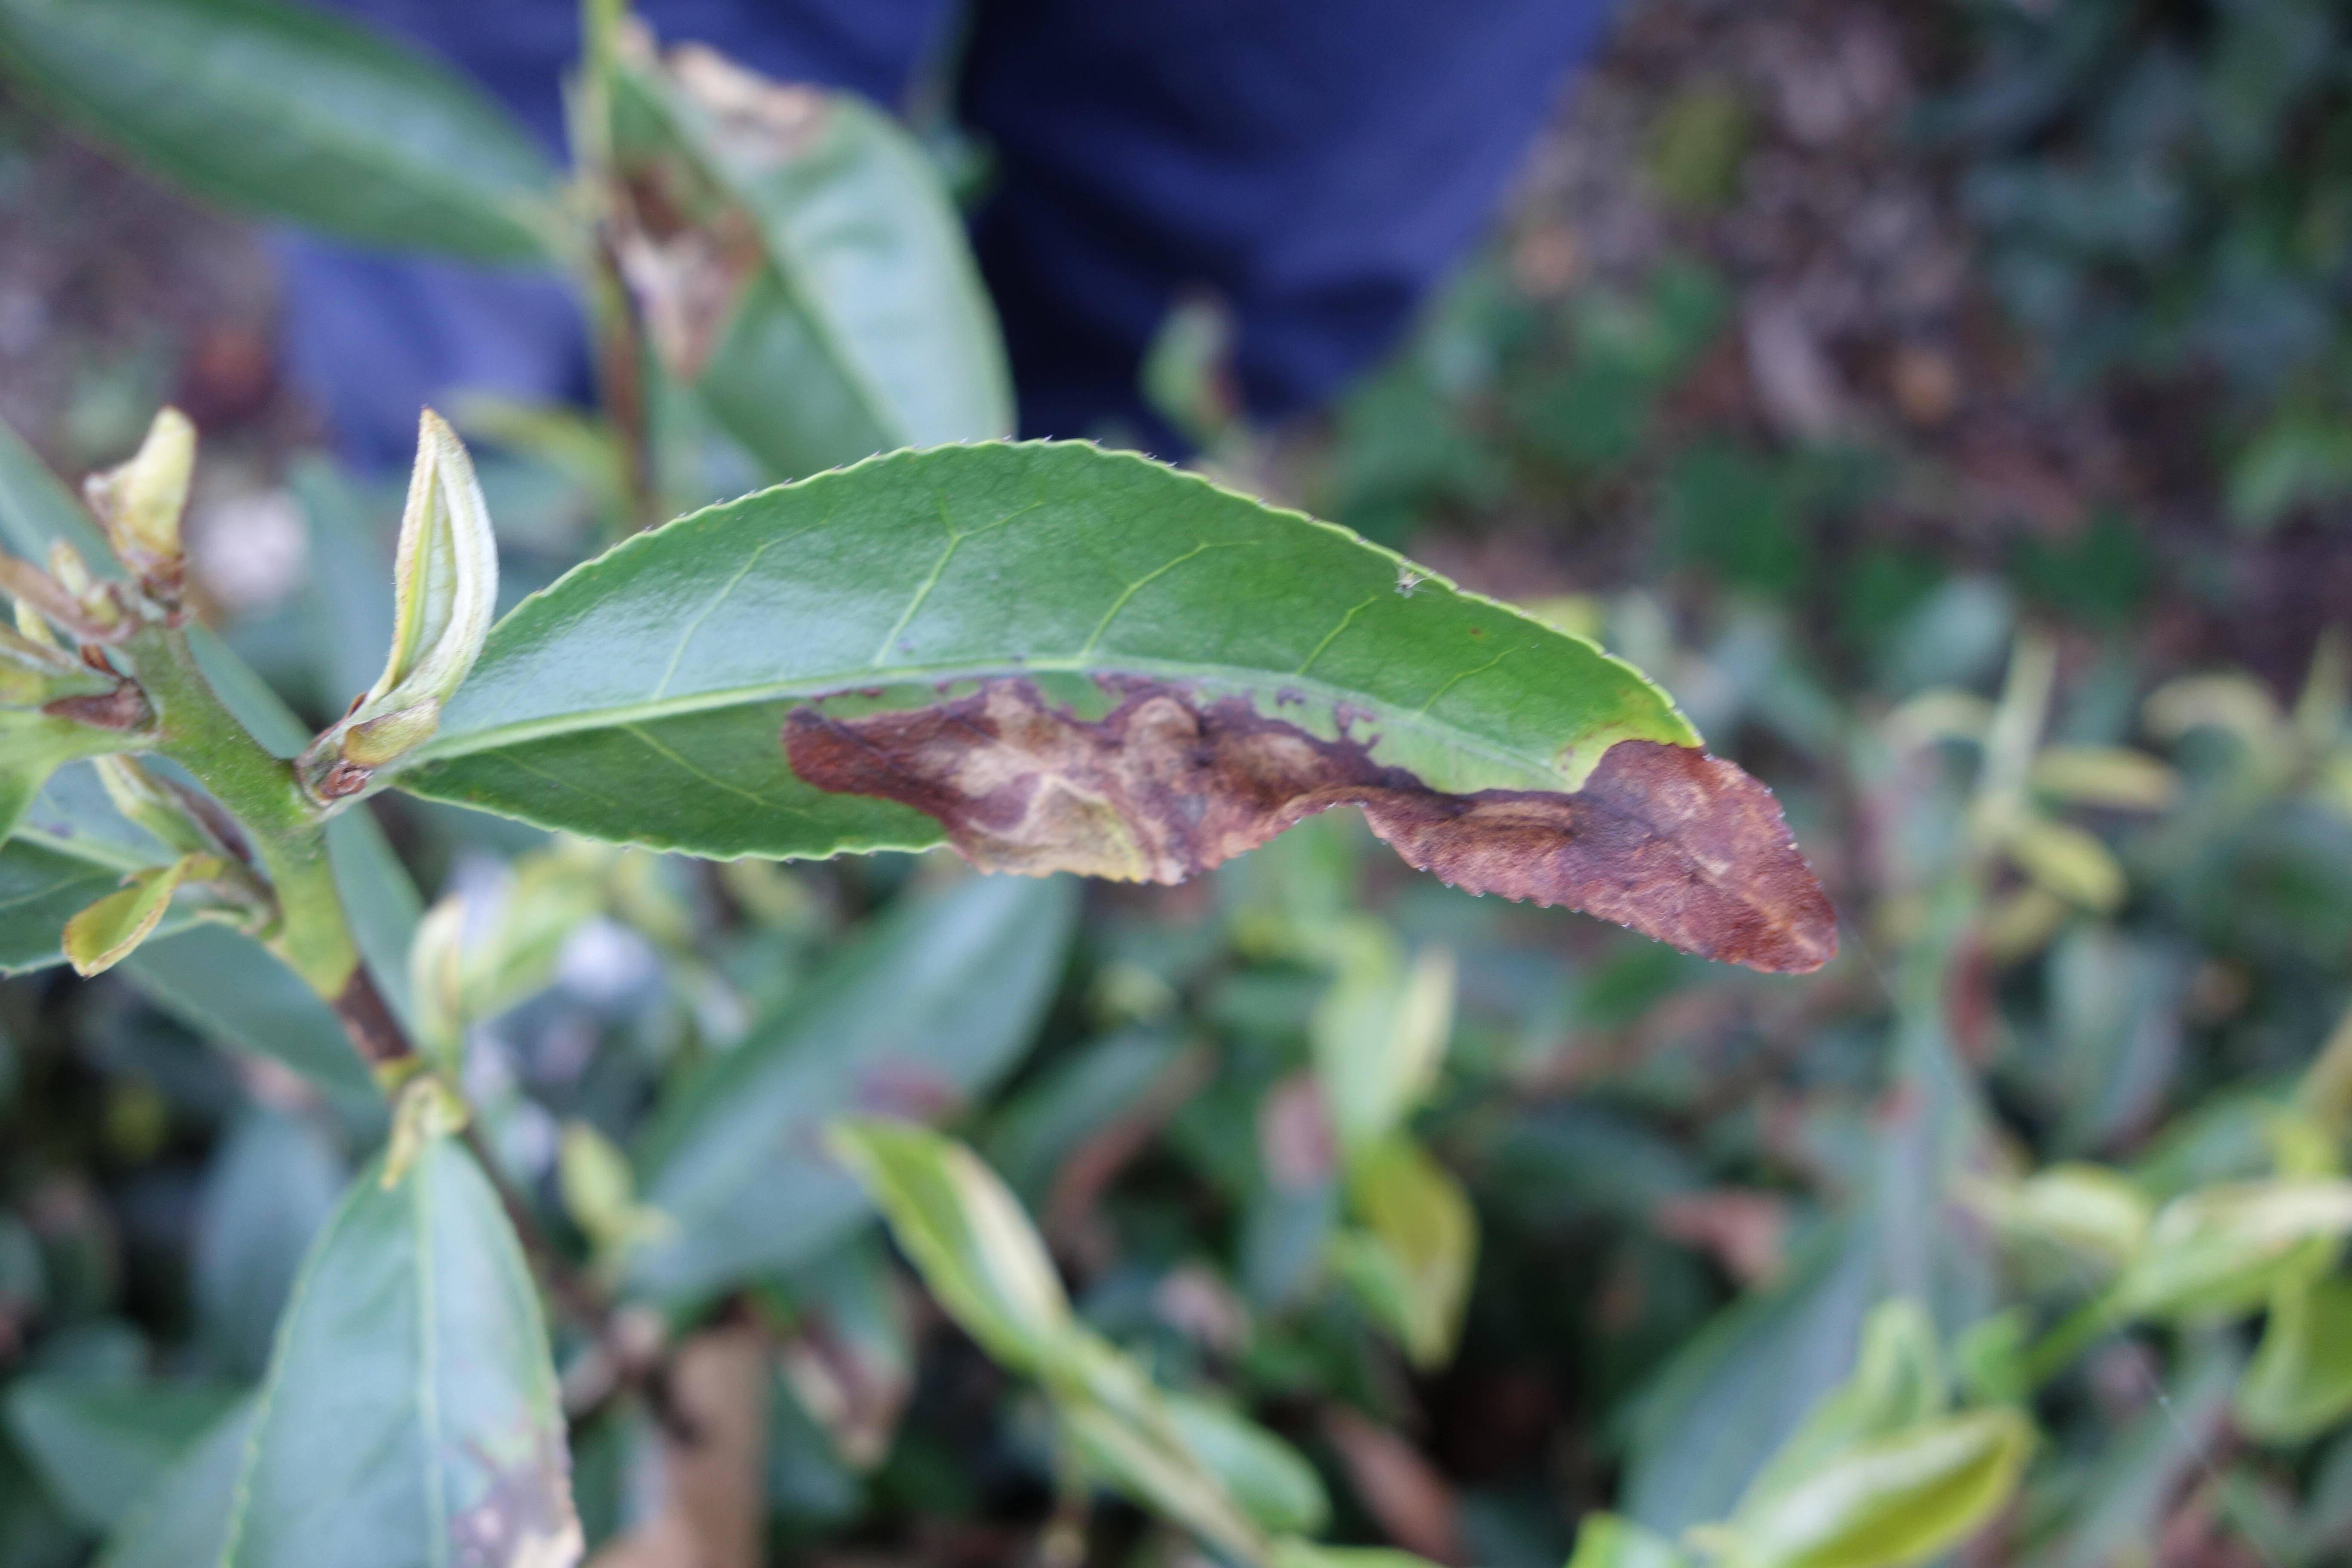tanju_high: (388, 430, 1839, 980)
